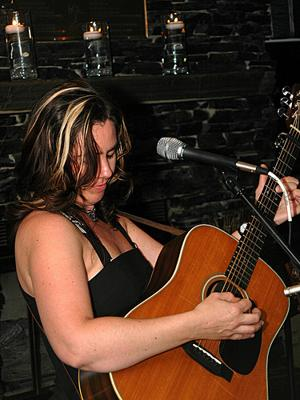person: (14, 84, 300, 398)
